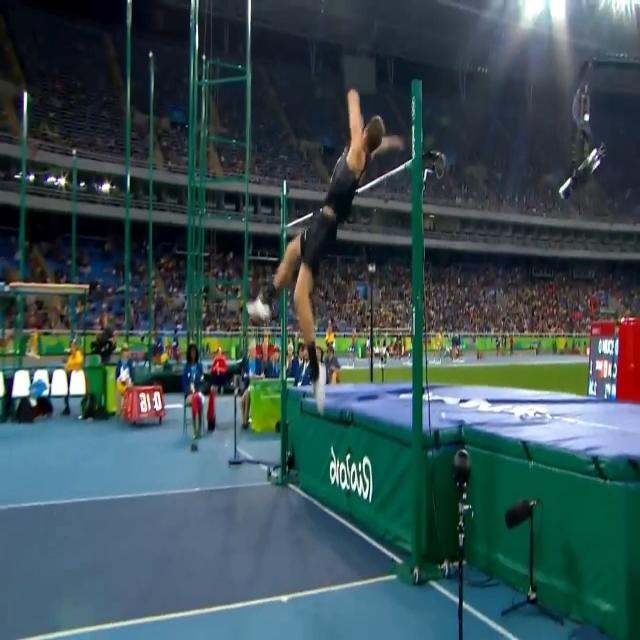jump: (246, 85, 404, 418)
